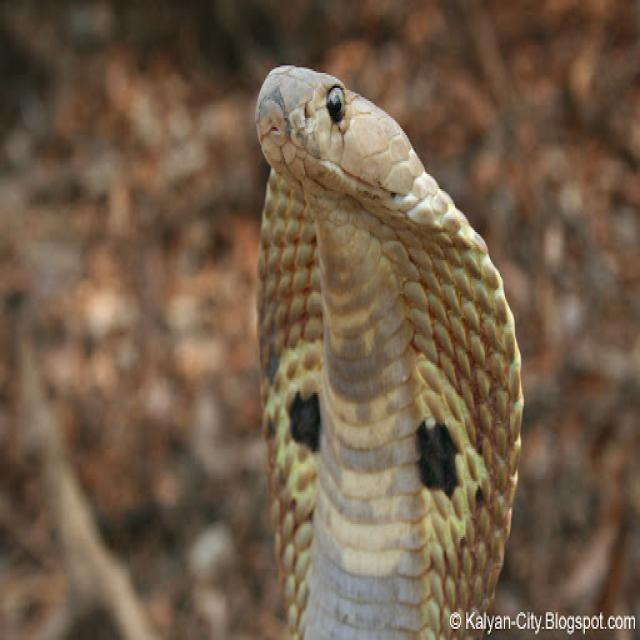Snake: (248, 58, 528, 638)
